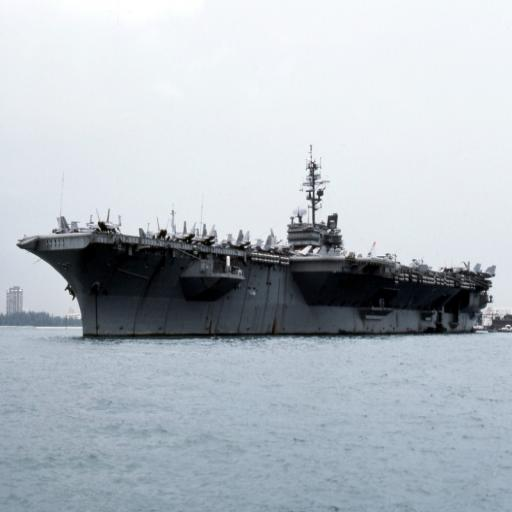Portanaves: (17, 138, 498, 343)
